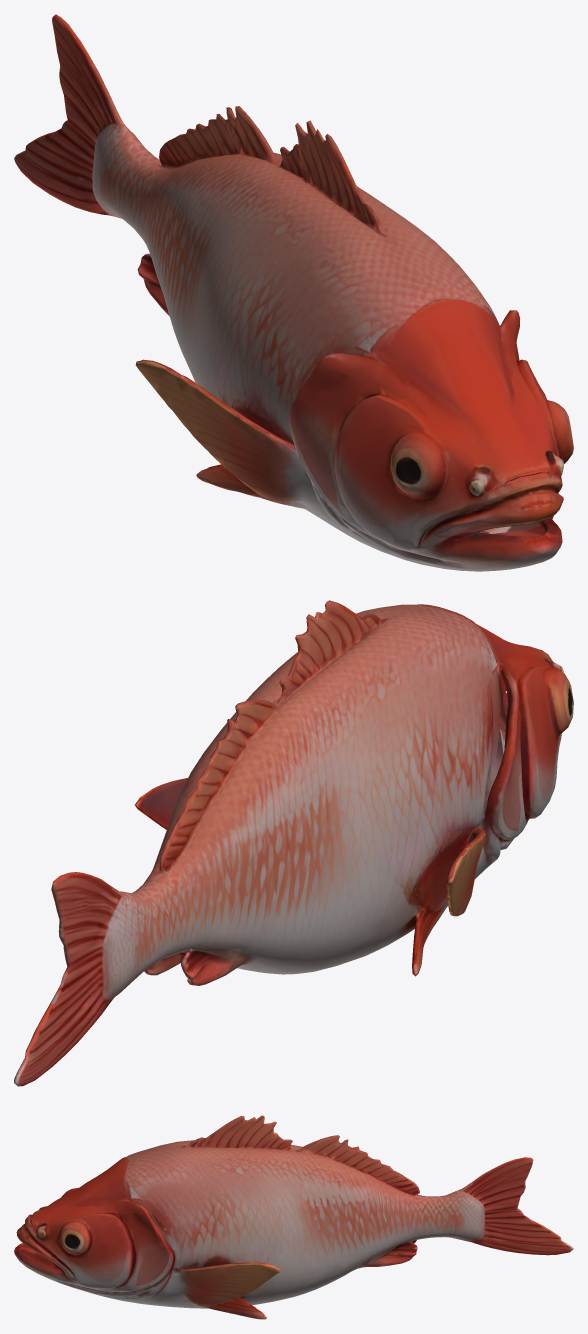
The model's file is TripoModel.glb.
3 renders of one model, top to bottom at view 1: azimuth 30°, elevation 25°; view 2: azimuth 150°, elevation 25°; view 3: azimuth 270°, elevation 25°, orthographic. The views are drawn at different scales.
Parts seen in each view (by area): view 1: tripo_node_20ccdbd1-adc9-4424-b529-0ccba5f2f6f3; view 2: tripo_node_20ccdbd1-adc9-4424-b529-0ccba5f2f6f3; view 3: tripo_node_20ccdbd1-adc9-4424-b529-0ccba5f2f6f3.
Part boxes in pixels (x1=…): tripo_node_20ccdbd1-adc9-4424-b529-0ccba5f2f6f3: x1=14, y1=14, x2=573, y2=571; tripo_node_20ccdbd1-adc9-4424-b529-0ccba5f2f6f3: x1=14, y1=600, x2=573, y2=1086; tripo_node_20ccdbd1-adc9-4424-b529-0ccba5f2f6f3: x1=14, y1=1115, x2=573, y2=1319.
Bounding box in the file's own units: 0.3457 × 0.371 × 1.
1 material, 1 textured.
